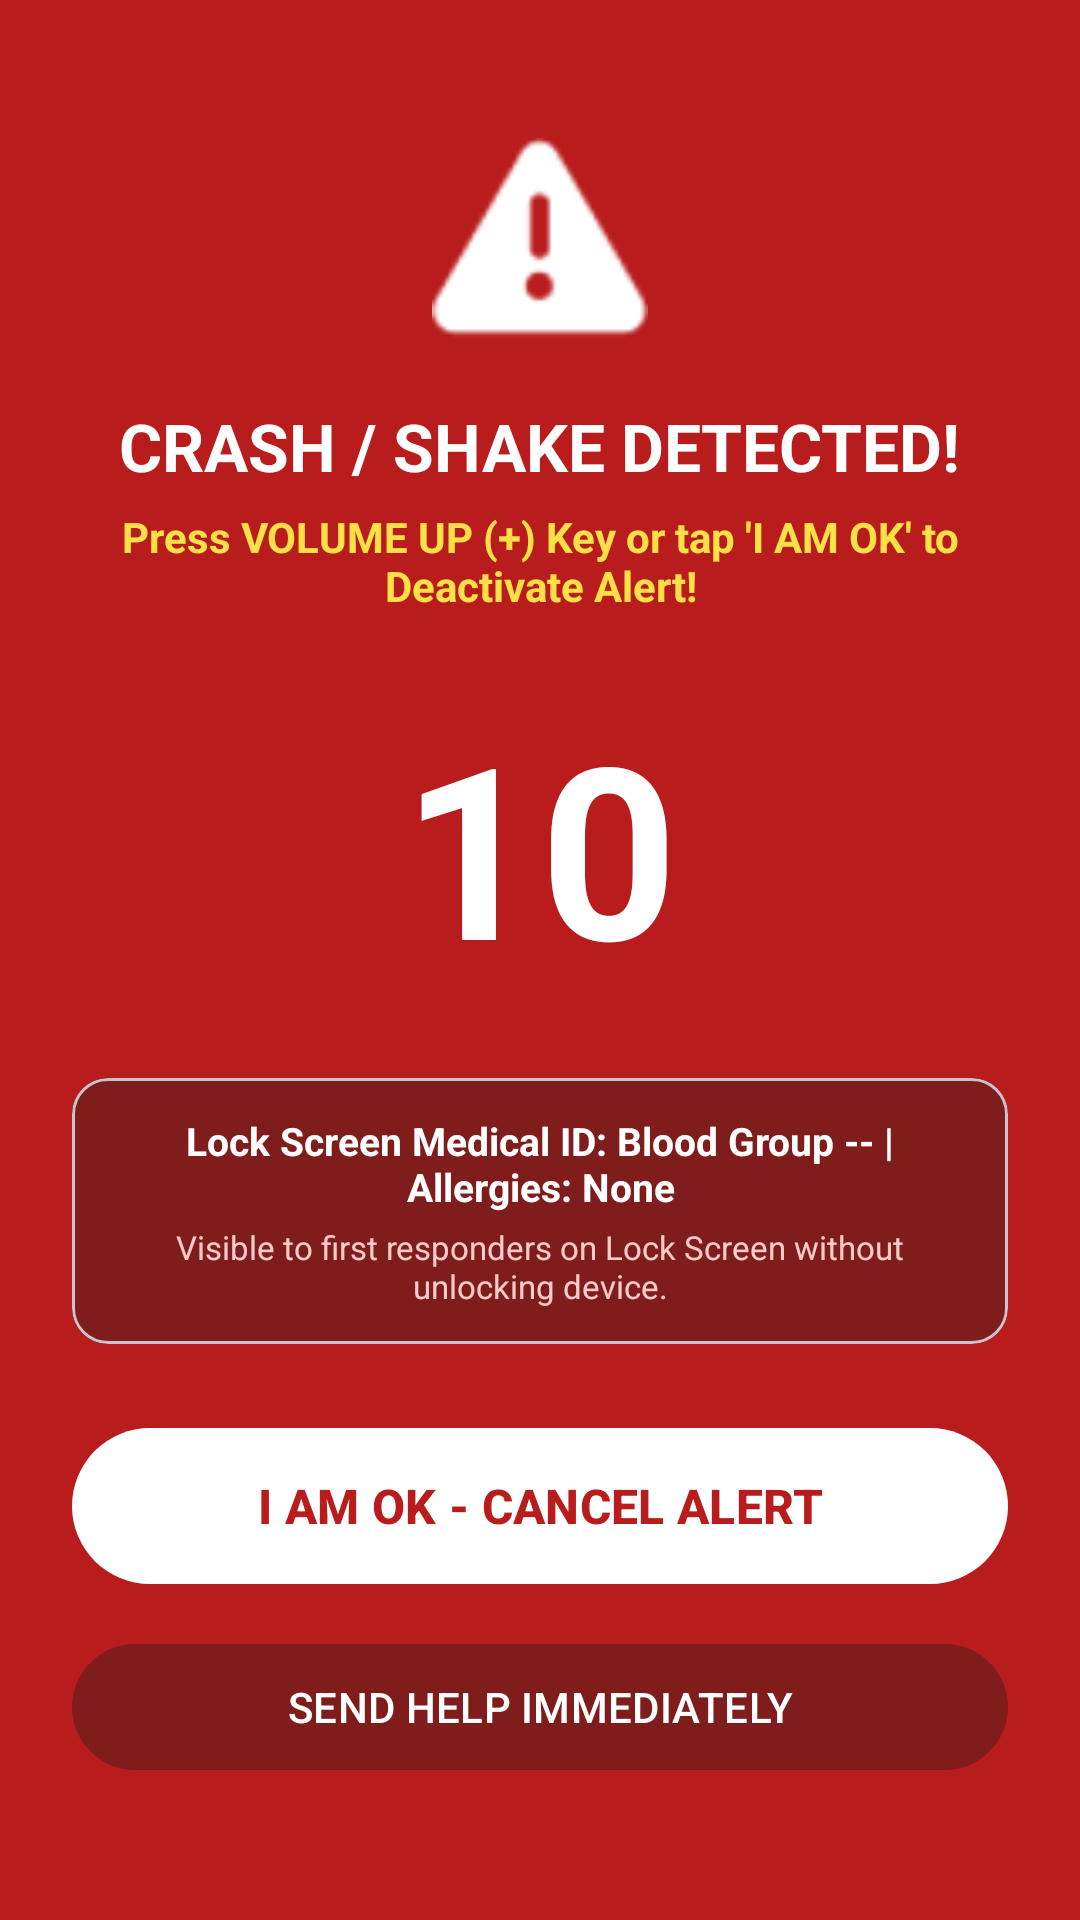

Icon bounding boxes for this 1080w x 1920h phone screenshot, format rect(x1, y1, x2, y2):
Crash Warning: rect(432, 138, 648, 335)
